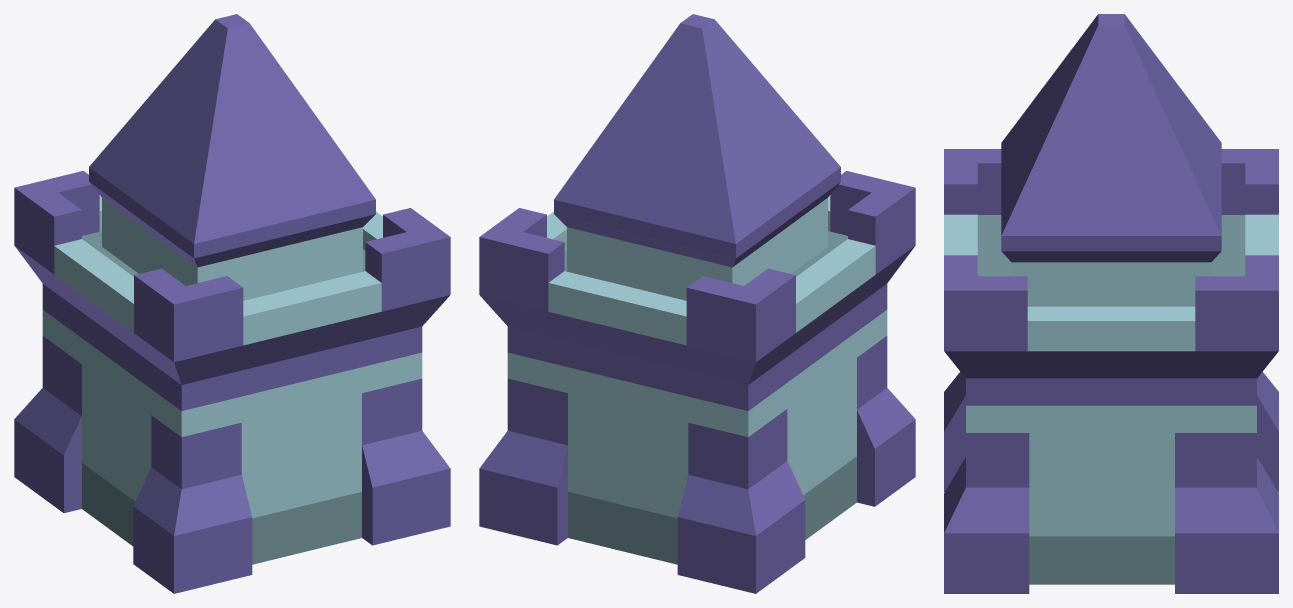
Rendered from towersquare_sampleb.fbx.
3 renders of one model, left to right at view 1: azimuth 30°, elevation 25°; view 2: azimuth 150°, elevation 25°; view 3: azimuth 270°, elevation 25°, orthographic. The views are drawn at different scales.
Visible parts, largest first — view 1: towerSquare_sampleB; view 2: towerSquare_sampleB; view 3: towerSquare_sampleB.
Part boxes in pixels (x1,y1,x2,y2): towerSquare_sampleB: (14,14,450,593); towerSquare_sampleB: (479,14,915,593); towerSquare_sampleB: (944,14,1278,593).
Size of the model in its own units: 10 by 16.6 by 10.
